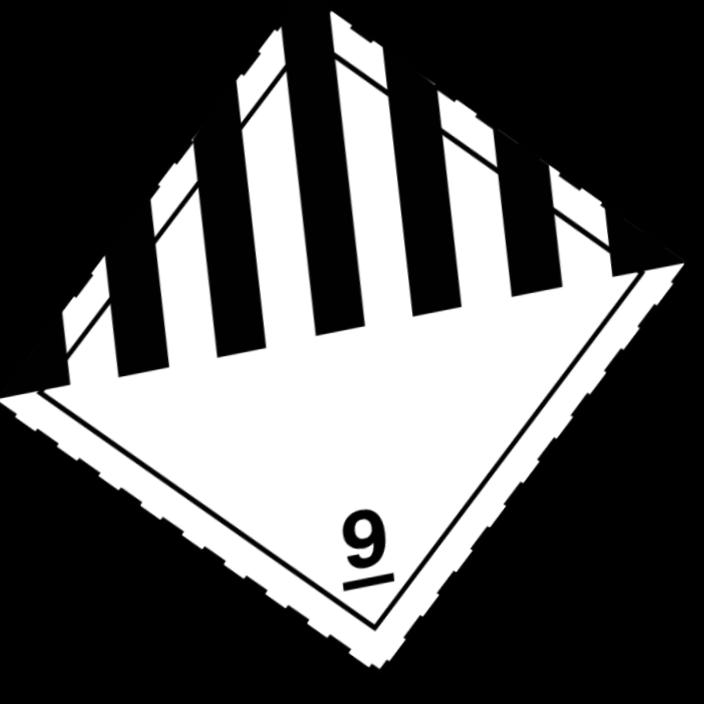elevator doors: (0, 0, 691, 676)
